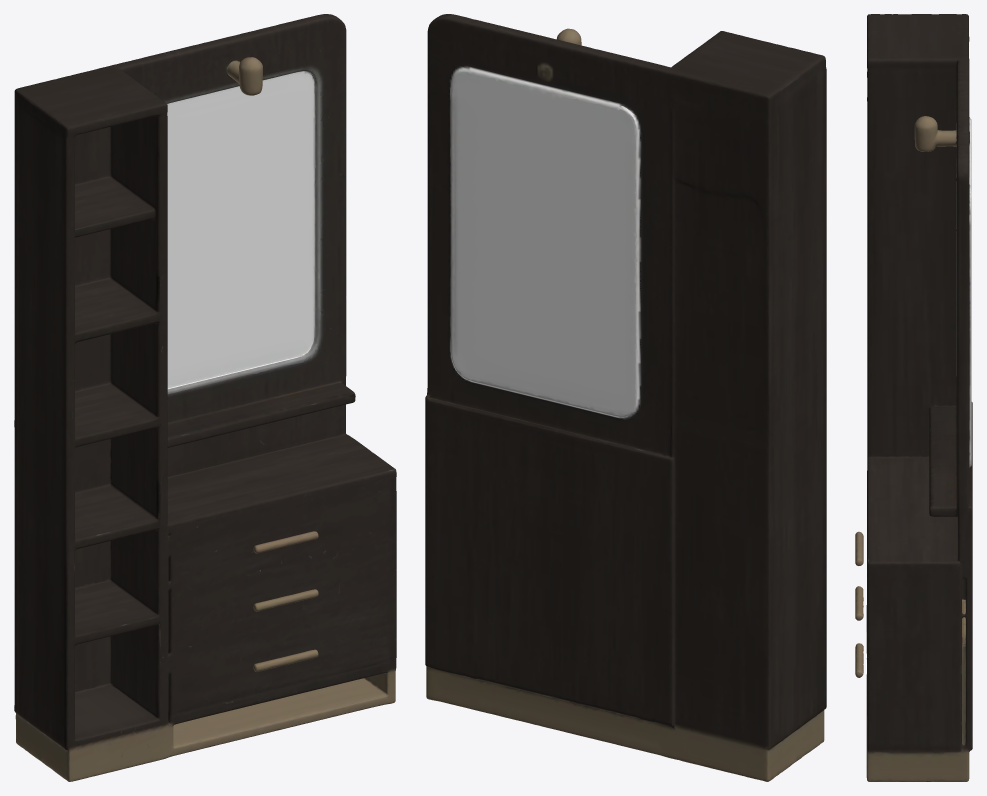
The model's file is dressing_table.glb.
3 views of the same model, side by side, from view 1: azimuth 30°, elevation 25°; view 2: azimuth 150°, elevation 25°; view 3: azimuth 270°, elevation 25° (orthographic). The views are drawn at different scales.
Parts seen in each view (by area): view 1: world; view 2: world; view 3: world.
Boxes of the visible parts, left/top/right/bottom form: world: left=14, top=14, right=396, bottom=781; world: left=425, top=14, right=826, bottom=781; world: left=855, top=14, right=972, bottom=781.
Bounding box in the file's own units: 0.5309 × 1 × 0.1731.
Materials: 1 (1 with a texture image).
